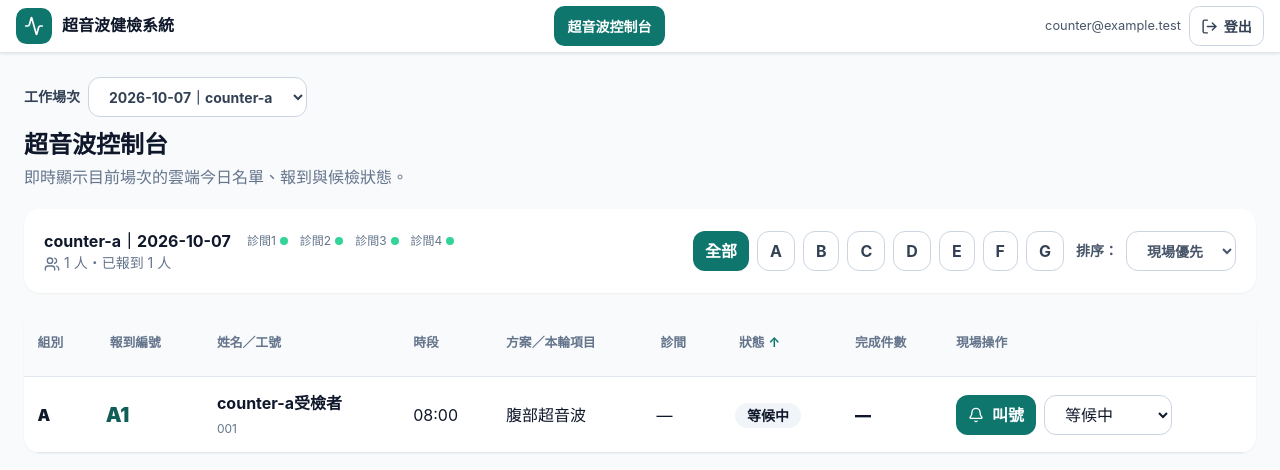
App → Console Realtime request counters › an old roster response cannot replace a new session and ignored old events issue no request
Expected: the table is shown, left=24, top=309, right=1256, bottom=453
Select "2026-10-07｜counter-b" in the dropdown named "工作場次" at [198, 97], box left=88, top=77, right=307, bottom=117
Wait 450 ms
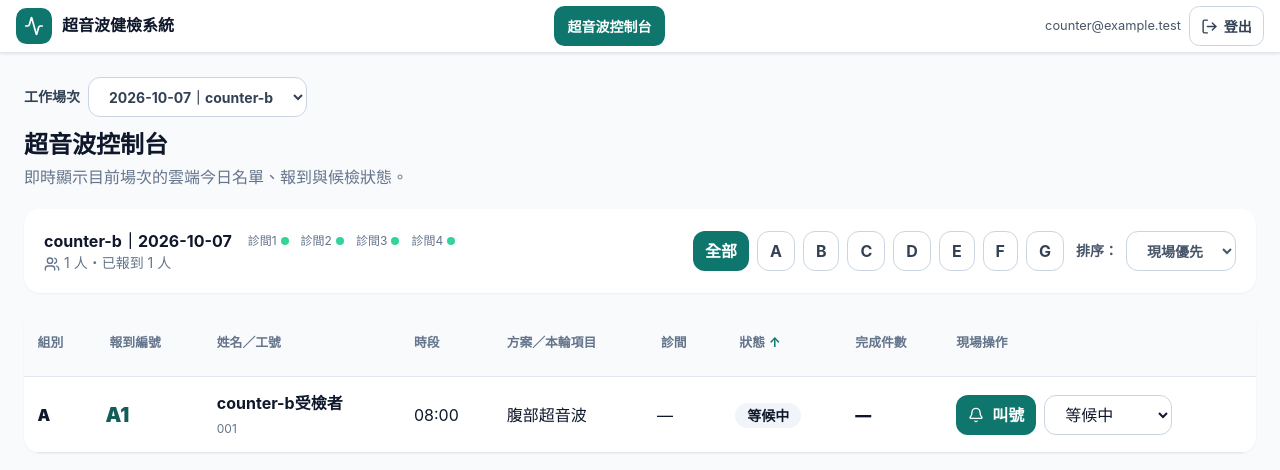
Result: the text "counter-b受檢者" is shown at left=217, top=393, right=343, bottom=413
